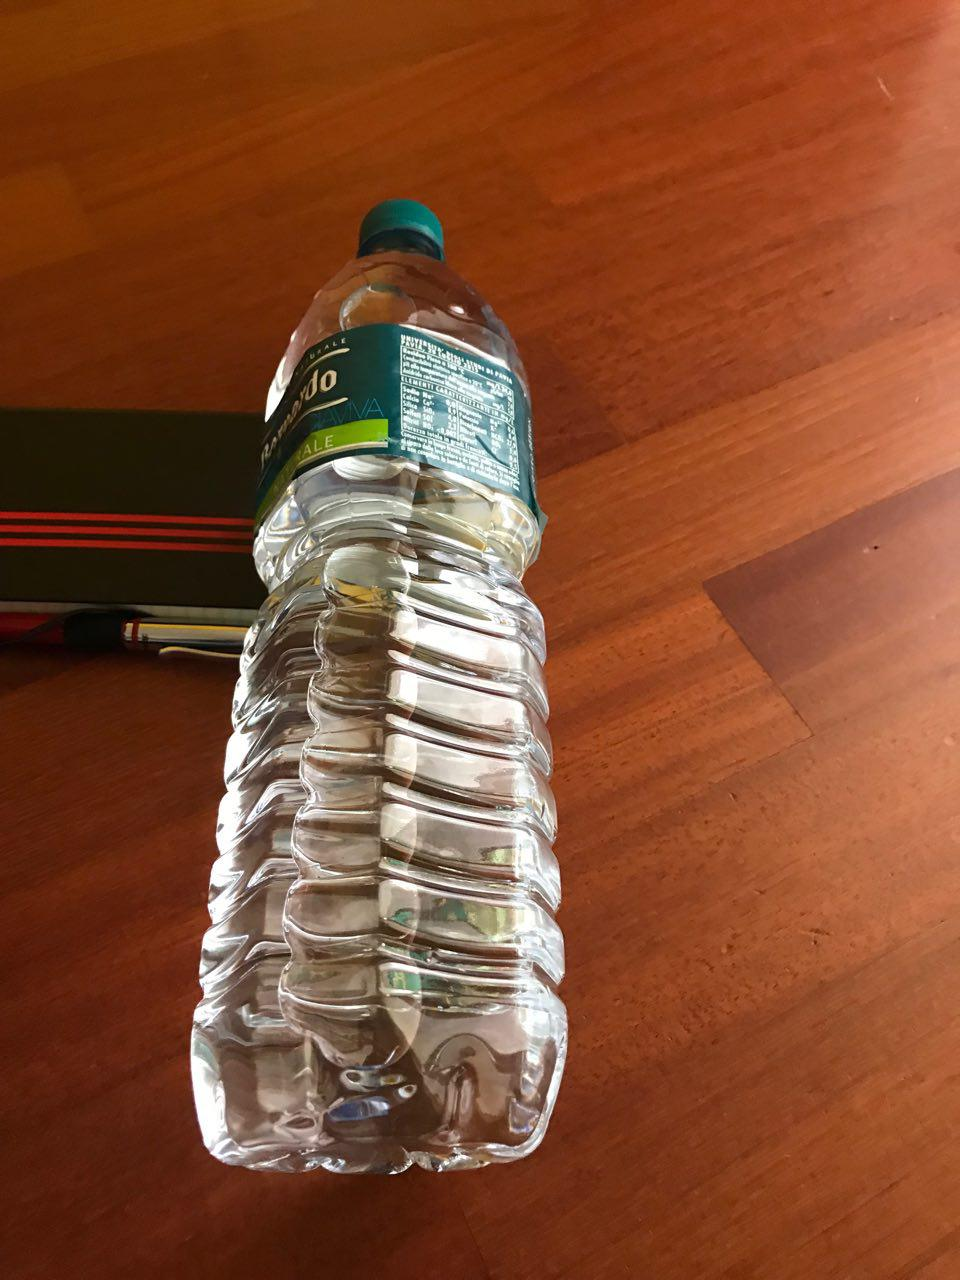san_bernardo: (187, 196, 571, 1181)
